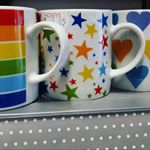cups: (38, 7, 146, 102), (1, 5, 70, 113)
